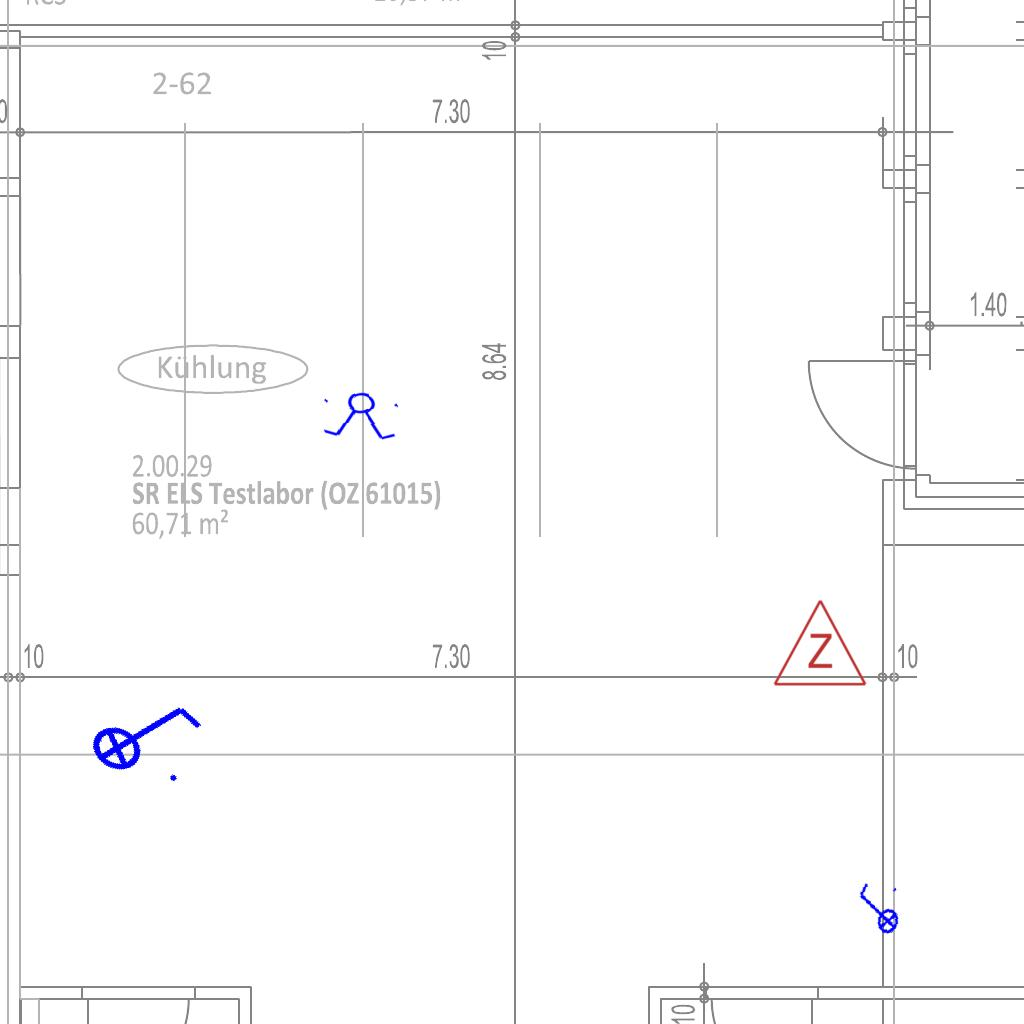Ausschalter_beleuchtet: (72, 664, 216, 802), (847, 877, 907, 943)
Serienschalter: (317, 389, 405, 443)
Zimmersignalleuchte: (770, 593, 868, 693)
